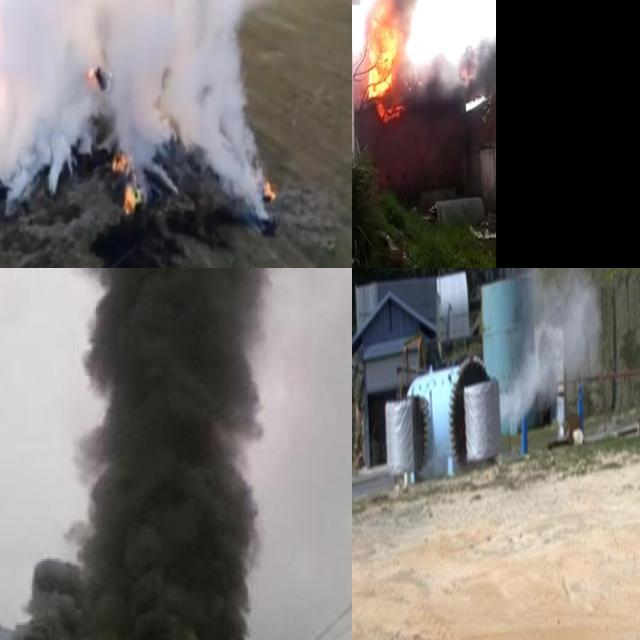fire: (364, 0, 402, 103), (112, 154, 141, 213), (86, 62, 100, 88), (264, 176, 278, 202)
smoke: (3, 268, 269, 640), (0, 0, 298, 228), (500, 268, 598, 420)
